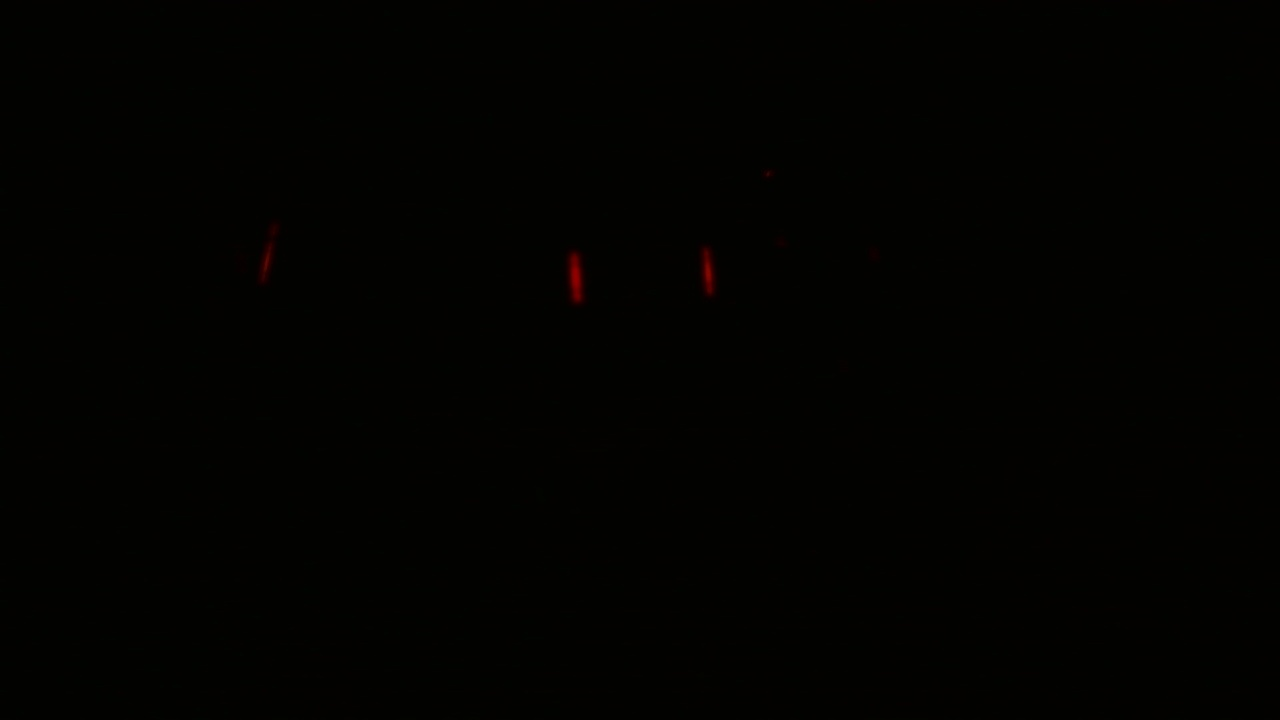pair1: (559, 236, 725, 307)
